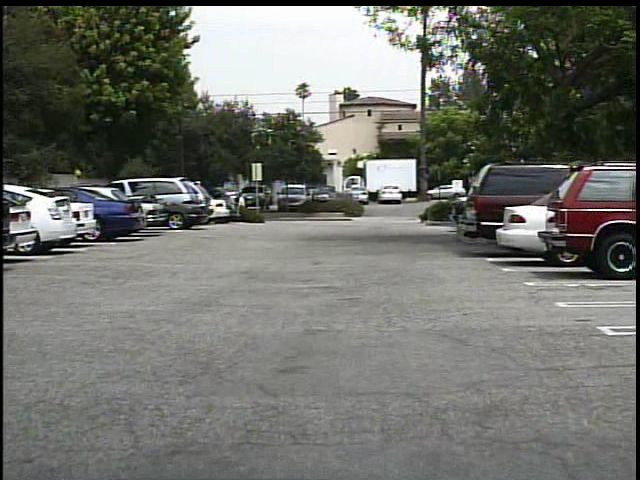person: (222, 189, 237, 219), (235, 193, 250, 221), (232, 189, 244, 220)
